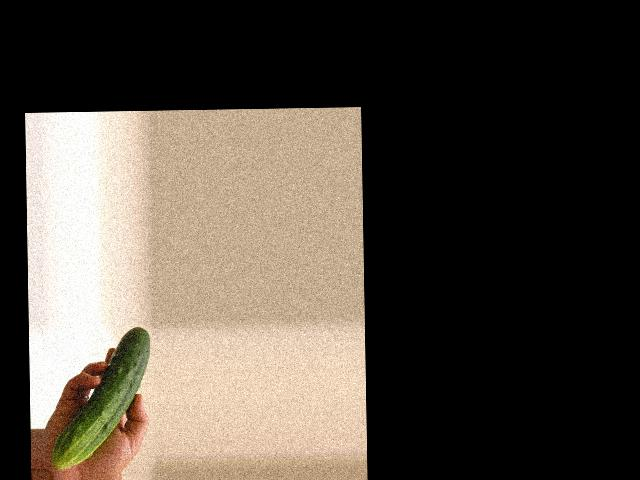cucumber: (49, 327, 151, 469)
